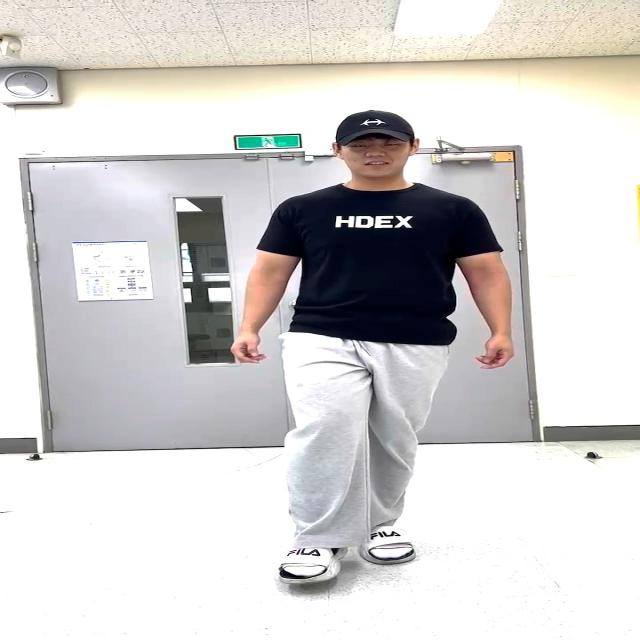leg: (274, 348, 354, 592), (367, 346, 423, 564)
